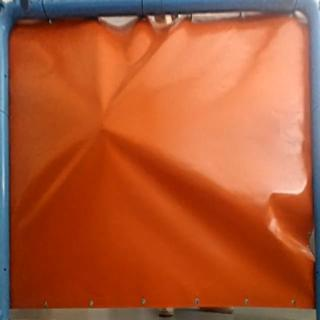Hit-hRxx: (99, 113, 113, 134)
